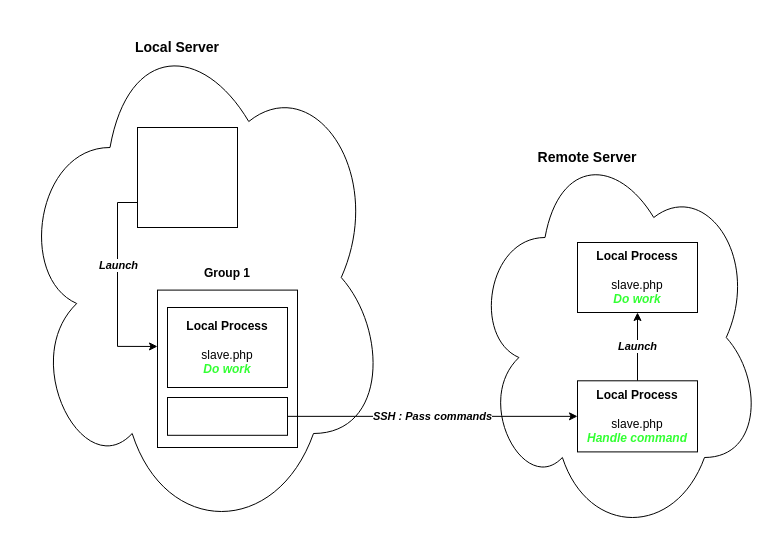
The diagram is 780 pixels wide and 555 high, and some of its shapes have lost their labels. The shapes that lost their labels are listed below. From the top down, each one's centre as x and y in pixels, then its label:
(187,177): Master Process master.php
(227,415): Remote Process
